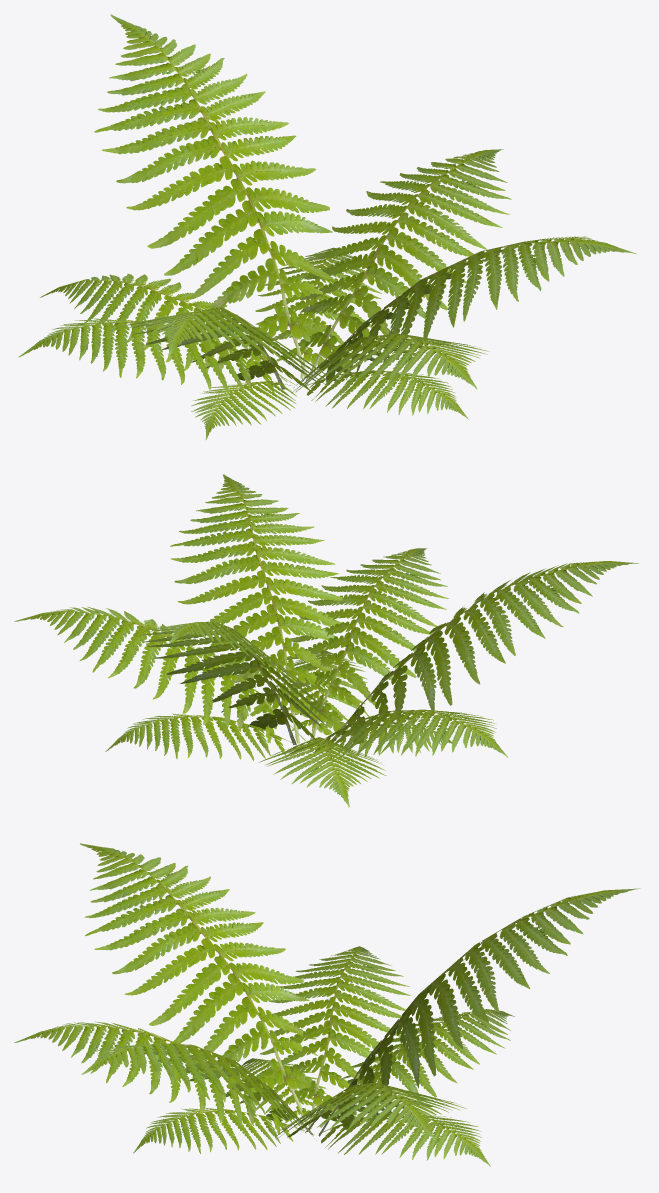
Rendered from fern.glb.
3 renders of one model, top to bottom at view 1: azimuth 30°, elevation 25°; view 2: azimuth 150°, elevation 25°; view 3: azimuth 270°, elevation 25°, orthographic. The views are drawn at different scales.
Parts seen in each view (by area): view 1: Tree_0; view 2: Tree_0; view 3: Tree_0.
Boxes of the visible parts, x1,y1,x2,y2 form: Tree_0: (18, 14, 636, 440); Tree_0: (14, 474, 638, 807); Tree_0: (14, 843, 640, 1166).
Size of the model in its own units: 2.17 by 0.9347 by 2.26.
1 material, 1 textured.
